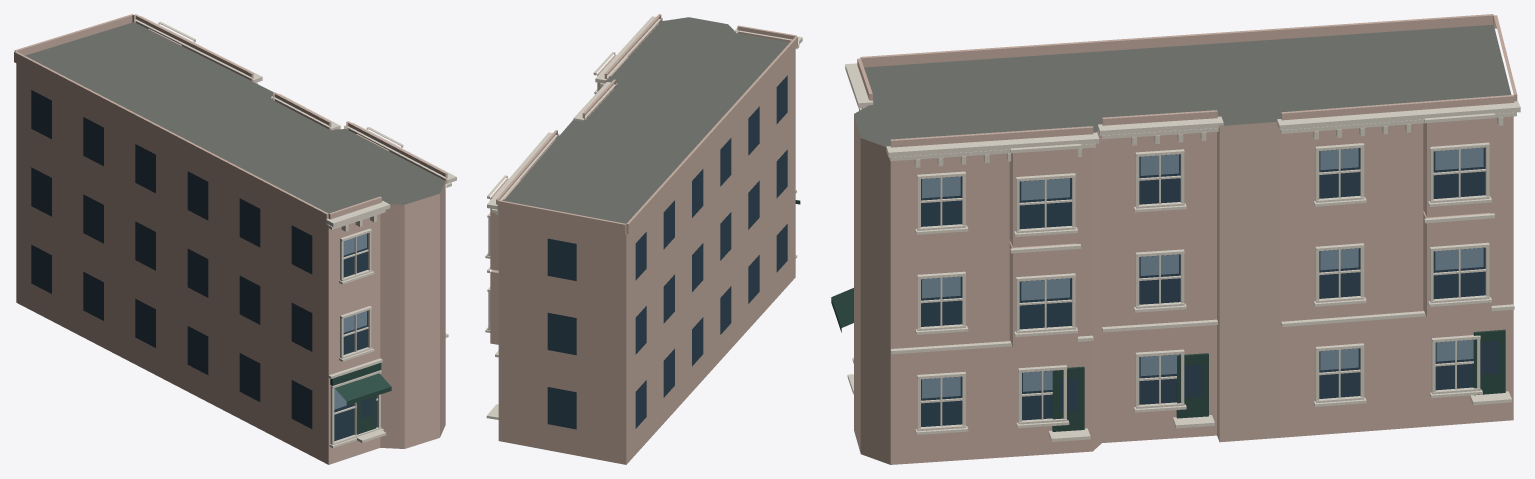
The picture shows the model from 3 angles, left to right: view 1: azimuth 30°, elevation 25°; view 2: azimuth 150°, elevation 25°; view 3: azimuth 270°, elevation 25°; orthographic projection. The views are drawn at different scales.
Visible parts, largest first — view 1: Footprint 0 / surface 2, Footprint 0 / surface 1, Inset glazing, Facade bay volumes, Cornices and window frames, Storefronts and doors, Sky reflection panels; view 2: Footprint 0 / surface 2, Footprint 0 / surface 1, Inset glazing, Facade bay volumes, Cornices and window frames; view 3: Footprint 0 / surface 2, Footprint 0 / surface 1, Cornices and window frames, Facade bay volumes, Inset glazing, Sky reflection panels, Storefronts and doors.
Part boxes in pixels (x1=…): Footprint 0 / surface 2: x1=16, y1=63, x2=445, y2=464; Footprint 0 / surface 1: x1=25, y1=22, x2=445, y2=213; Inset glazing: x1=31, y1=90, x2=377, y2=441; Facade bay volumes: x1=14, y1=14, x2=447, y2=224; Cornices and window frames: x1=134, y1=16, x2=456, y2=448; Storefronts and doors: x1=330, y1=363, x2=391, y2=434; Sky reflection panels: x1=334, y1=233, x2=366, y2=409; Footprint 0 / surface 2: x1=498, y1=49, x2=795, y2=464; Footprint 0 / surface 1: x1=504, y1=17, x2=789, y2=223; Inset glazing: x1=547, y1=75, x2=787, y2=429; Facade bay volumes: x1=490, y1=14, x2=797, y2=344; Cornices and window frames: x1=485, y1=16, x2=802, y2=419; Footprint 0 / surface 2: x1=854, y1=115, x2=1513, y2=464; Footprint 0 / surface 1: x1=854, y1=24, x2=1511, y2=146; Cornices and window frames: x1=845, y1=63, x2=1520, y2=441; Facade bay volumes: x1=857, y1=14, x2=1517, y2=347; Inset glazing: x1=921, y1=147, x2=1499, y2=426; Sky reflection panels: x1=922, y1=147, x2=1483, y2=398; Storefronts and doors: x1=831, y1=288, x2=1505, y2=431.
Bounding box in the file's own units: 10.7 × 12.29 × 23.59.
